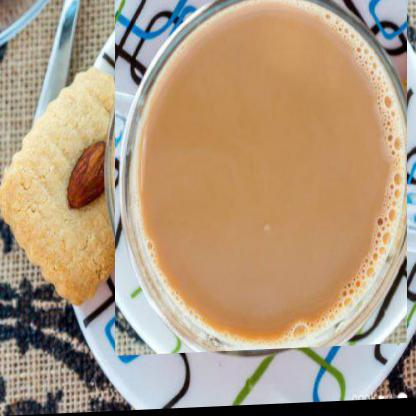milk_based_beverage: (114, 0, 408, 358)
